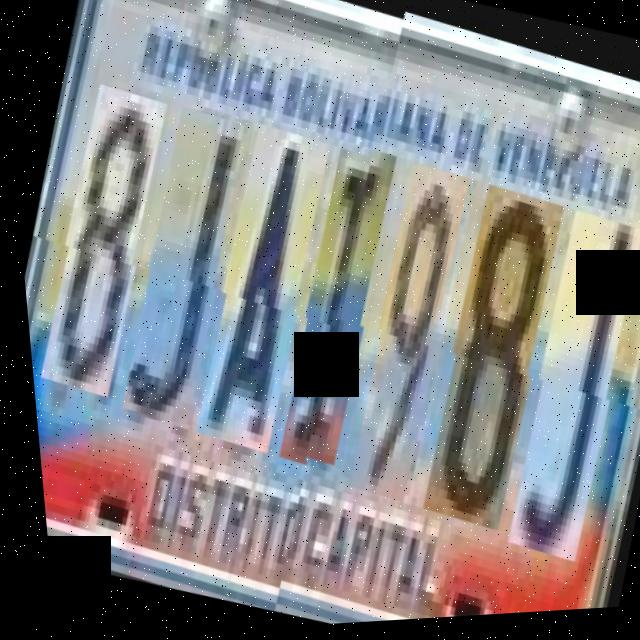8: (391, 187, 587, 541), (14, 81, 191, 401)
9: (317, 167, 492, 512)
A: (167, 120, 354, 456)
I: (250, 144, 421, 475)
J: (474, 213, 640, 572), (94, 106, 274, 433)
